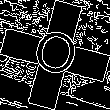O_S: (28, 25, 82, 85)
